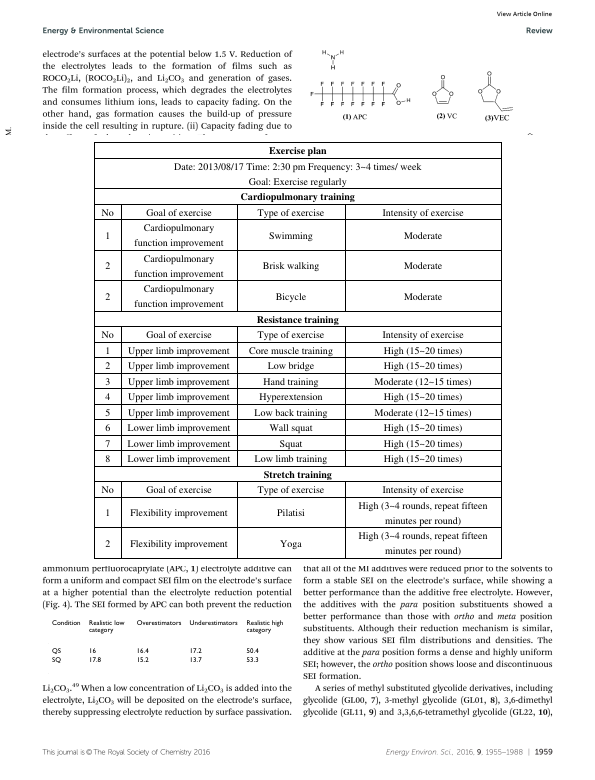bordered: (93, 140, 501, 558)
borderless: (46, 617, 286, 675)
cell: (172, 160, 422, 188), (357, 529, 488, 558), (357, 499, 488, 527), (133, 221, 224, 250), (133, 252, 224, 280), (133, 283, 224, 311), (239, 190, 355, 204), (126, 421, 231, 435), (126, 359, 230, 373), (126, 437, 231, 450), (126, 453, 231, 466), (126, 344, 230, 357), (126, 375, 230, 388), (126, 391, 230, 404), (126, 406, 230, 419), (373, 375, 472, 388), (373, 406, 472, 419), (129, 507, 228, 520), (129, 537, 228, 550), (381, 328, 464, 342), (382, 359, 463, 373), (382, 421, 463, 435), (247, 344, 333, 357), (255, 313, 339, 326), (381, 206, 464, 219), (381, 484, 464, 497), (382, 344, 463, 357), (382, 391, 463, 404), (382, 437, 463, 450), (382, 453, 463, 466), (253, 406, 328, 419), (253, 453, 328, 466), (256, 328, 325, 342), (145, 328, 212, 342), (262, 468, 332, 481), (256, 206, 325, 219), (256, 484, 325, 497), (145, 206, 212, 219), (145, 484, 212, 497), (258, 391, 323, 404), (267, 144, 327, 158), (261, 259, 320, 273), (262, 375, 319, 388), (266, 359, 315, 373), (268, 421, 313, 435), (245, 619, 284, 635), (87, 619, 125, 635), (267, 229, 313, 242), (402, 259, 443, 273), (402, 229, 443, 242), (402, 290, 443, 303), (188, 619, 238, 628), (274, 290, 307, 303), (135, 619, 182, 628), (275, 507, 305, 520), (278, 437, 303, 450), (278, 537, 302, 550), (51, 619, 81, 628), (100, 328, 114, 342), (100, 206, 114, 219), (100, 484, 114, 497), (135, 647, 149, 656), (188, 647, 202, 656), (245, 647, 259, 656), (87, 656, 101, 665), (135, 656, 149, 665), (188, 656, 202, 665), (245, 656, 259, 665), (104, 259, 111, 273), (104, 359, 111, 373), (104, 421, 111, 435), (104, 229, 111, 242), (104, 290, 111, 303), (104, 344, 111, 357), (104, 375, 111, 388), (104, 391, 111, 404), (104, 406, 111, 419), (104, 437, 111, 450), (104, 453, 111, 466), (104, 507, 111, 520), (104, 537, 111, 550), (51, 647, 61, 656), (51, 656, 61, 665), (87, 647, 96, 656)
